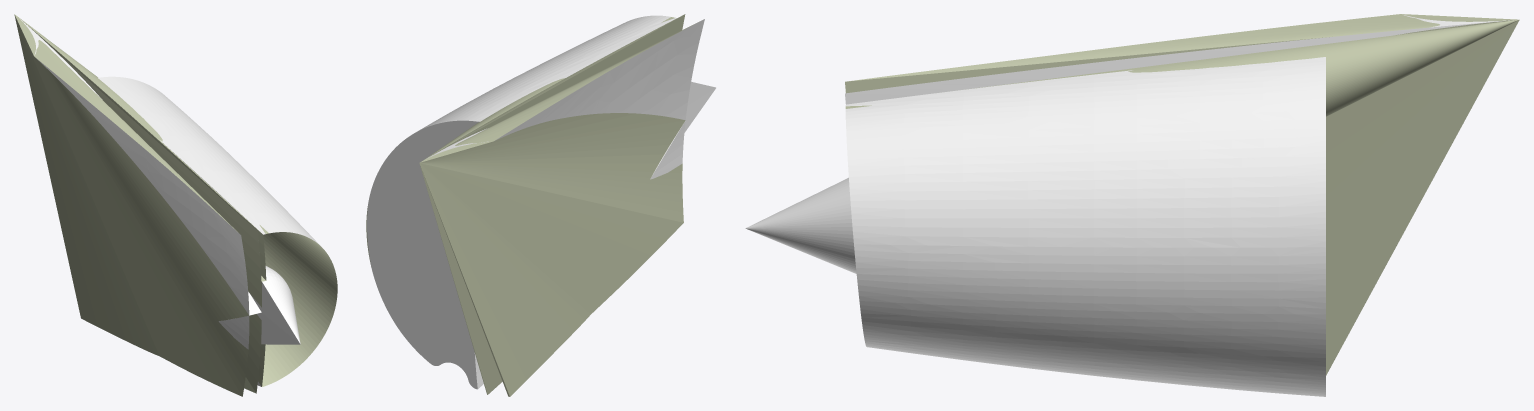
The model's file is Mirage3-intake.obj.
The picture shows the model from 3 angles, left to right: view 1: azimuth 30°, elevation 25°; view 2: azimuth 150°, elevation 25°; view 3: azimuth 270°, elevation 25°; orthographic projection. The views are drawn at different scales.
Visible parts, largest first — view 1: M3E-cuerpo_extract2_default, M3E-cuerpo_extract2_M3E_tx; view 2: M3E-cuerpo_extract2_default, M3E-cuerpo_extract2_M3E_tx; view 3: M3E-cuerpo_extract2_M3E_tx, M3E-cuerpo_extract2_default.
Part boxes in pixels (x1,y1,x2,y2): M3E-cuerpo_extract2_default: [14, 14, 337, 396]; M3E-cuerpo_extract2_M3E_tx: [19, 18, 321, 386]; M3E-cuerpo_extract2_default: [366, 14, 699, 396]; M3E-cuerpo_extract2_M3E_tx: [367, 15, 715, 389]; M3E-cuerpo_extract2_M3E_tx: [745, 14, 1513, 396]; M3E-cuerpo_extract2_default: [845, 14, 1519, 375].
Bounding box in the file's own units: 0.2131 × 0.3813 × 0.7409.
